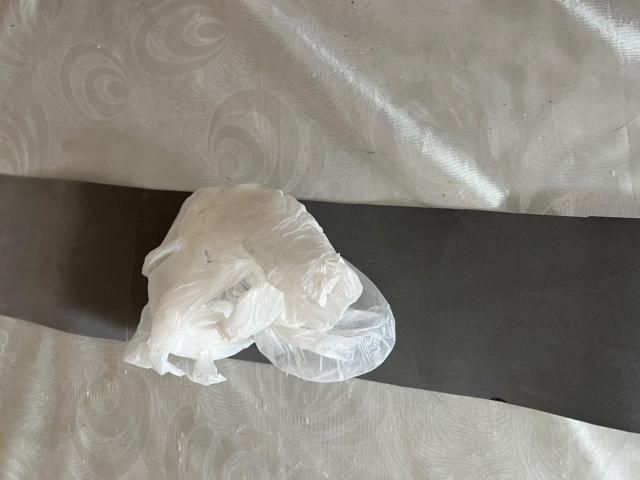LDPE: (68, 137, 516, 449)
